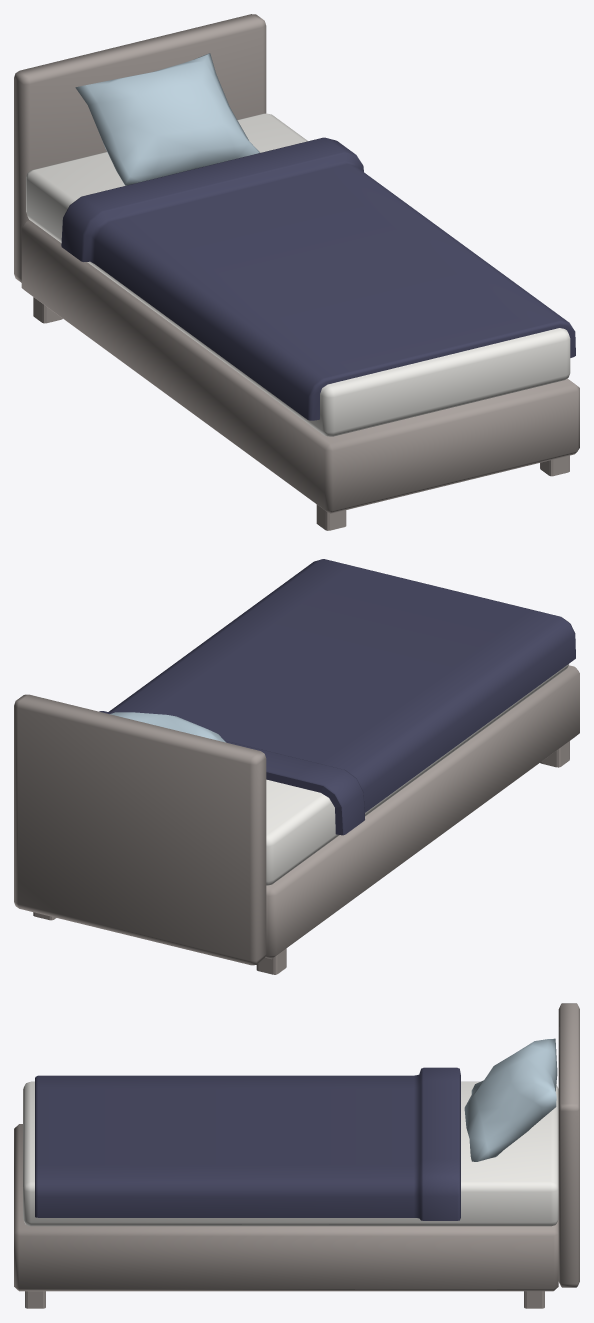
File: Prop_Bed_07.fbx
3 renders of one model, top to bottom at view 1: azimuth 30°, elevation 25°; view 2: azimuth 150°, elevation 25°; view 3: azimuth 270°, elevation 25°, orthographic. The views are drawn at different scales.
Visible parts, largest first — view 1: Prop_Bed_07; view 2: Prop_Bed_07; view 3: Prop_Bed_07.
Boxes of the visible parts, x1,y1,x2,y2 form: Prop_Bed_07: (14,14,579,530); Prop_Bed_07: (14,559,579,974); Prop_Bed_07: (14,1003,579,1308).
Bounding box in the file's own units: 111 × 86 × 218.
